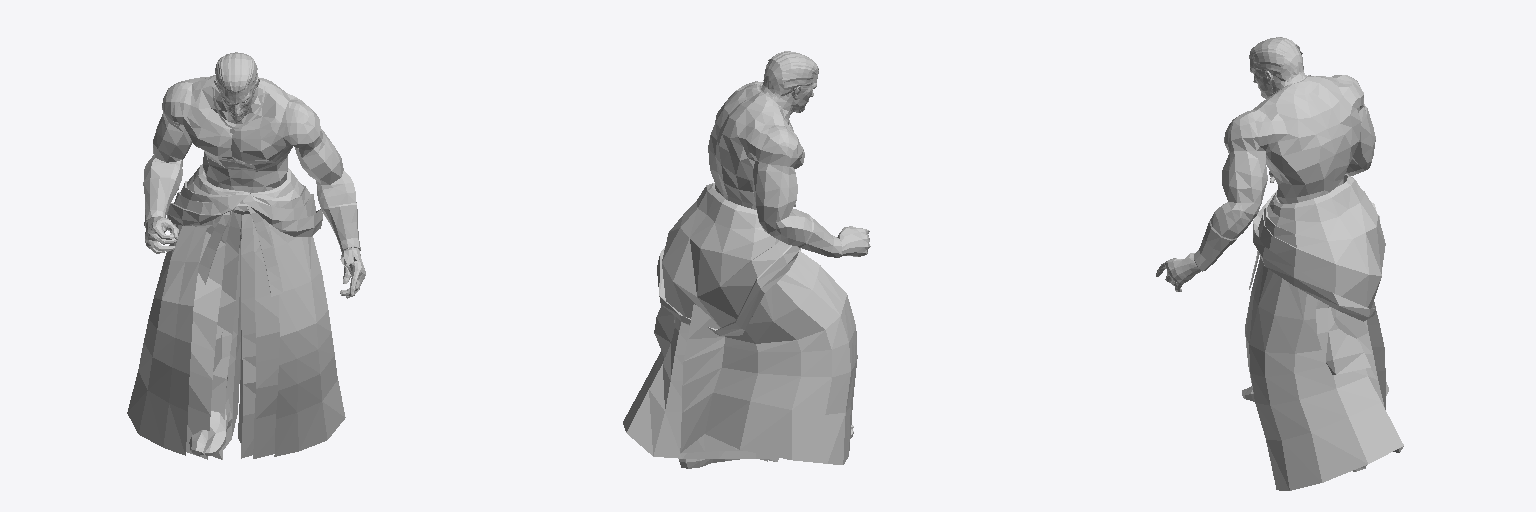
The model's file is geese_walk_000025.obj.
3 renders of one model, left to right at view 1: azimuth 30°, elevation 25°; view 2: azimuth 150°, elevation 25°; view 3: azimuth 270°, elevation 25°, orthographic.
Parts seen in each view (by area): view 1: GamemodelShape1.003, hairShape.001; view 2: GamemodelShape1.003, hairShape.001; view 3: GamemodelShape1.003, hairShape.001.
Boxes of the visible parts, <box> form: GamemodelShape1.003: <box>127,75,365,459</box>; hairShape.001: <box>215,52,257,93</box>; GamemodelShape1.003: <box>623,75,870,468</box>; hairShape.001: <box>761,51,818,98</box>; GamemodelShape1.003: <box>1156,59,1403,490</box>; hairShape.001: <box>1249,37,1305,82</box>.
Bounding box in the file's own units: 2.63 × 4.91 × 2.68.